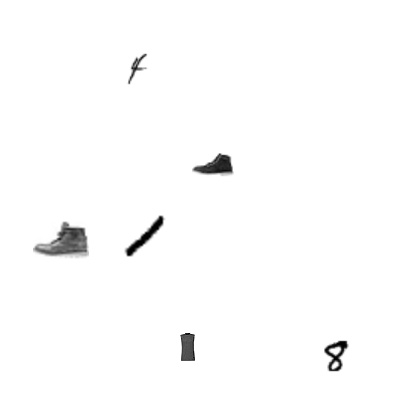1: (117, 208, 173, 264)
4: (115, 45, 157, 87)
8: (314, 332, 356, 374)
Ankle_boot: (33, 212, 89, 268), (192, 143, 234, 185)
T-shirt/top: (173, 333, 201, 361)
